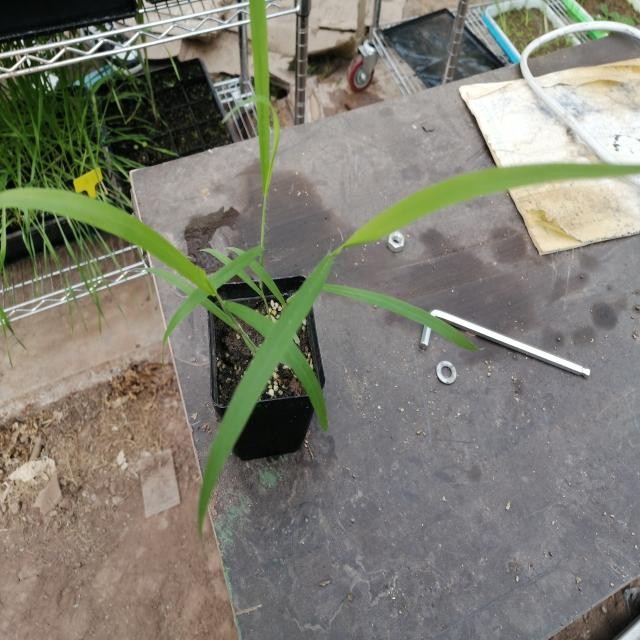crabgrass: (14, 178, 586, 526), (202, 0, 284, 226)
